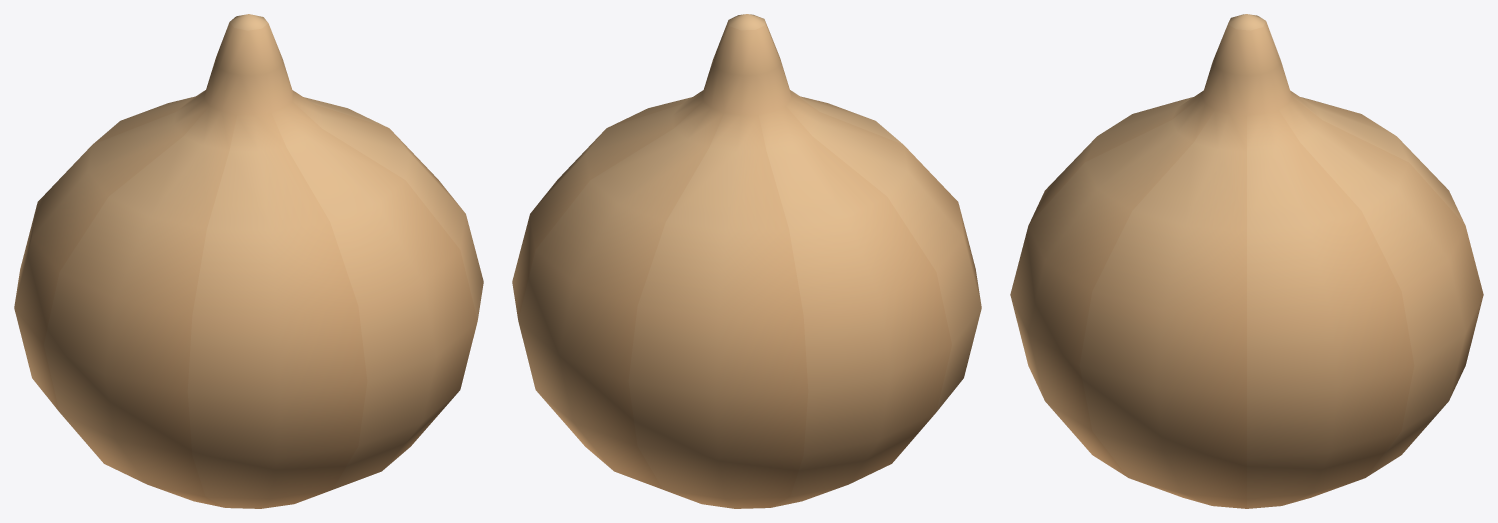
Rendered from Onion.glb.
3 views of the same model, side by side, from view 1: azimuth 30°, elevation 25°; view 2: azimuth 150°, elevation 25°; view 3: azimuth 270°, elevation 25° (orthographic).
Visible parts, largest first — view 1: food_ingredient_onion; view 2: food_ingredient_onion; view 3: food_ingredient_onion.
Boxes of the visible parts, bbox=[...] form: food_ingredient_onion: bbox=[14, 14, 483, 508]; food_ingredient_onion: bbox=[512, 14, 981, 508]; food_ingredient_onion: bbox=[1010, 14, 1483, 508].
Size of the model in its own units: 0.75 by 0.8624 by 0.75.
1 material, 1 textured.
